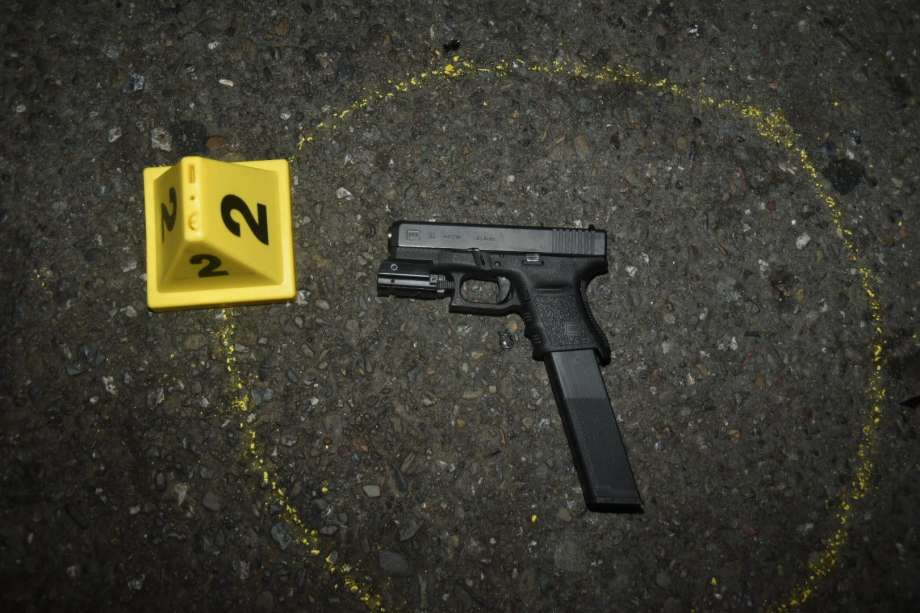pistol: (366, 220, 647, 508)
